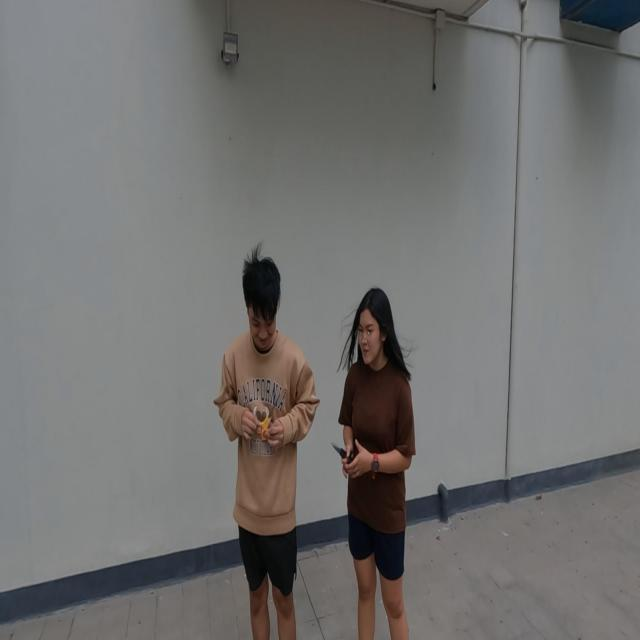scissor: (255, 392, 280, 442), (331, 441, 360, 475)
